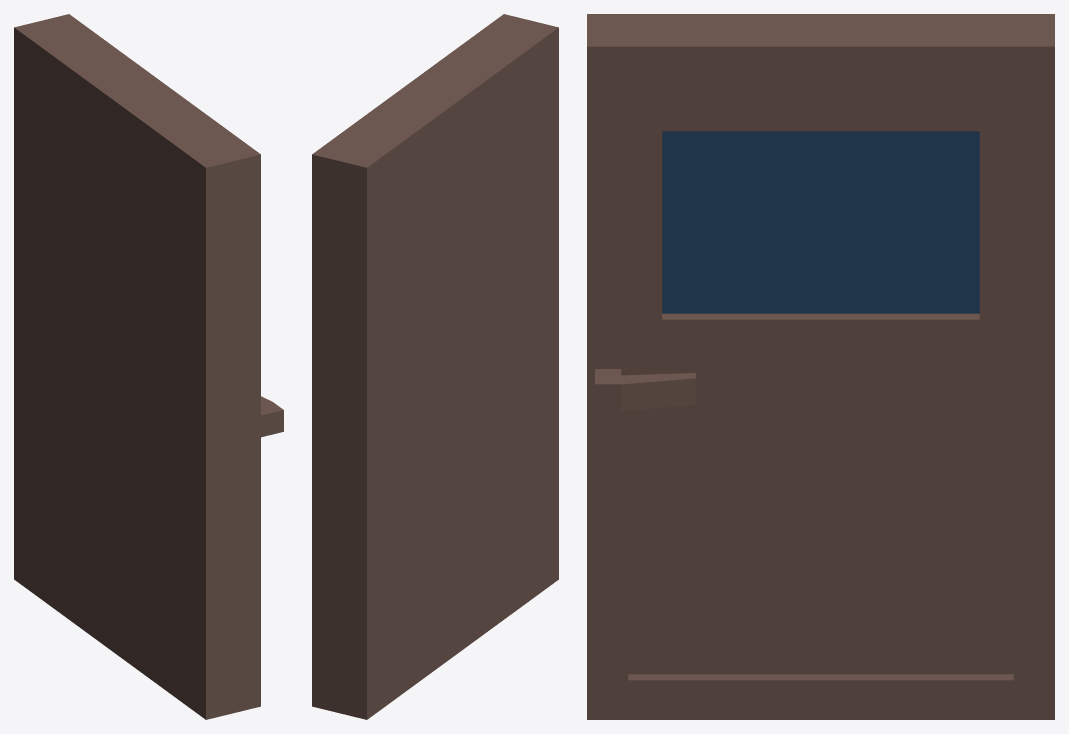
The model's file is Gym_door.fbx.
3 renders of one model, left to right at view 1: azimuth 30°, elevation 25°; view 2: azimuth 150°, elevation 25°; view 3: azimuth 270°, elevation 25°, orthographic. The views are drawn at different scales.
Parts seen in each view (by area): view 1: Cube.001; view 2: Cube.001; view 3: Cube.001.
Part boxes in pixels (<box>): Cube.001: <box>14,14,283,719</box>; Cube.001: <box>312,14,558,719</box>; Cube.001: <box>587,14,1054,719</box>.
Bounding box in the file's own units: 29.4 × 191 × 121.
